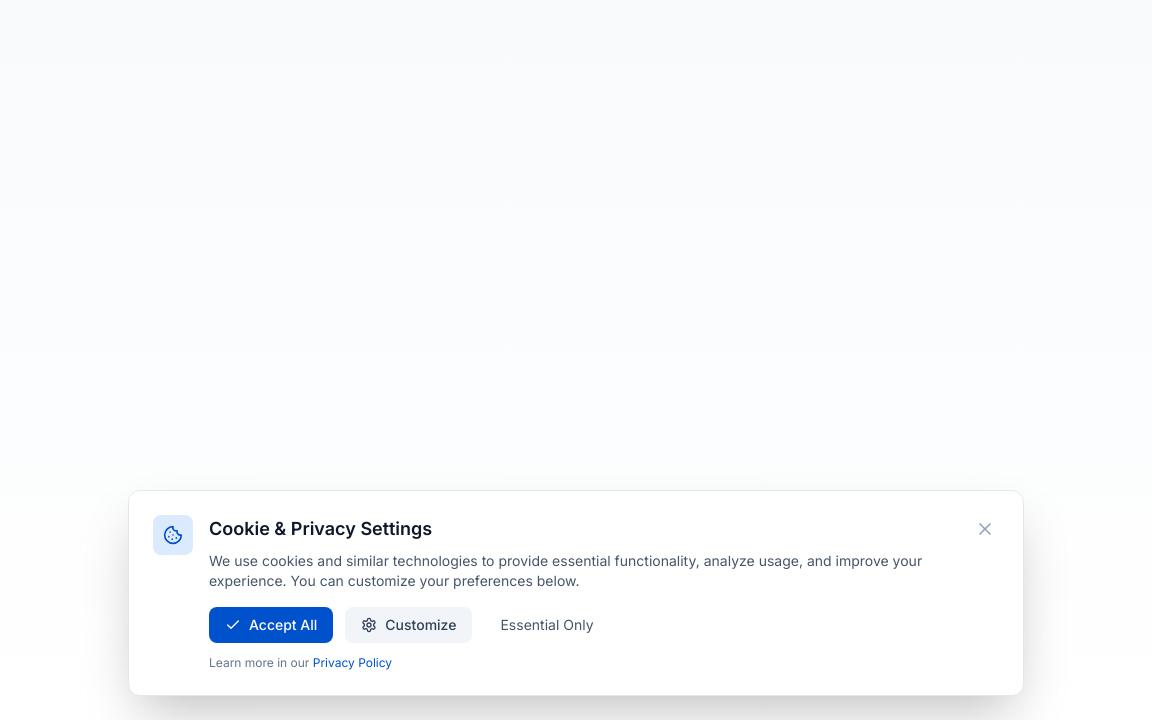
Test: CookieConsent › interactions › shows settings panel when Customize is clicked
The image size is (1152, 720).
Step 1. Click the button "Customize" → [409, 625], box [345,607,472,643]
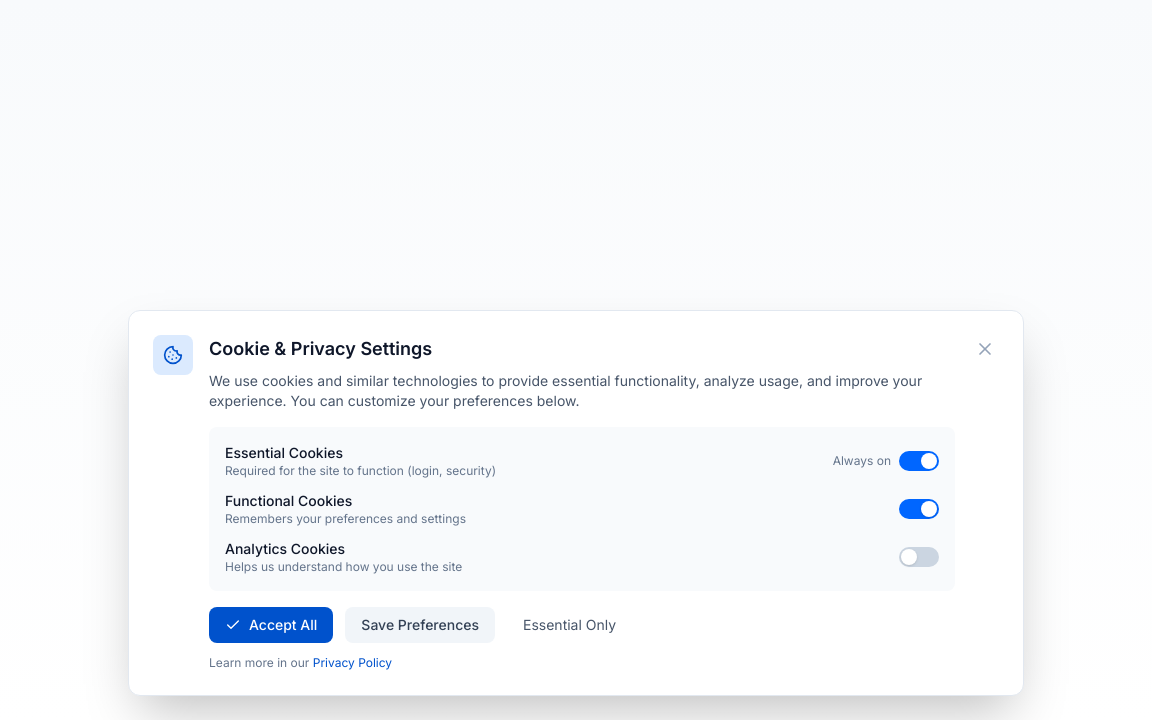
Now the text "Essential Cookies" is shown, box [225,444,343,461]
Now the text "Functional Cookies" is shown, box [225,492,352,509]
Now the text "Analytics Cookies" is shown, box [225,540,345,557]
